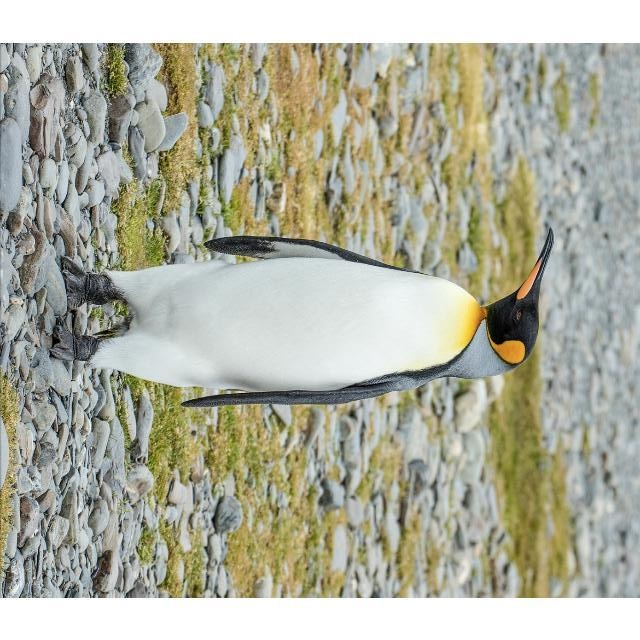penguin: (51, 226, 556, 410)
